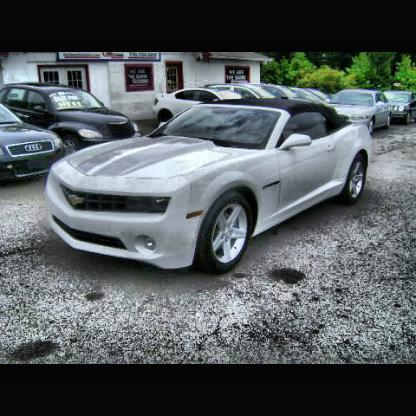Chevrolet Camaro Convertible 2012: (44, 100, 375, 278)
